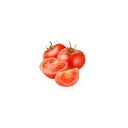tomato: (57, 47, 86, 70), (38, 56, 68, 76)
